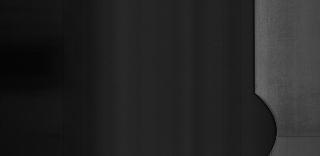welding line: (274, 131, 320, 139)
